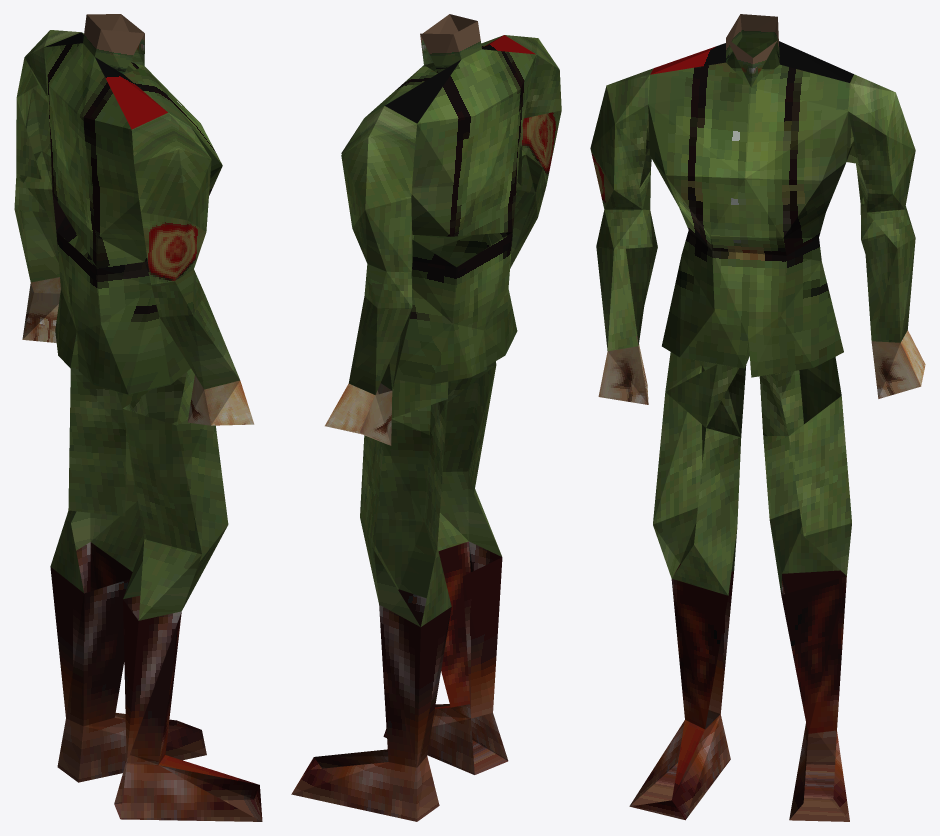
The model's file is primary_038.glb.
3 views of the same model, side by side, from view 1: azimuth 30°, elevation 25°; view 2: azimuth 150°, elevation 25°; view 3: azimuth 270°, elevation 25° (orthographic). The views are drawn at different scales.
Visible parts, largest first — view 1: Object; view 2: Object; view 3: Object.
Boxes of the visible parts, x1,y1,x2,y2 form: Object: [14, 14, 262, 821]; Object: [291, 14, 561, 821]; Object: [590, 14, 925, 821].
Bounding box in the file's own units: 0.4042 × 1.83 × 0.742.
64 materials, 64 textured.
